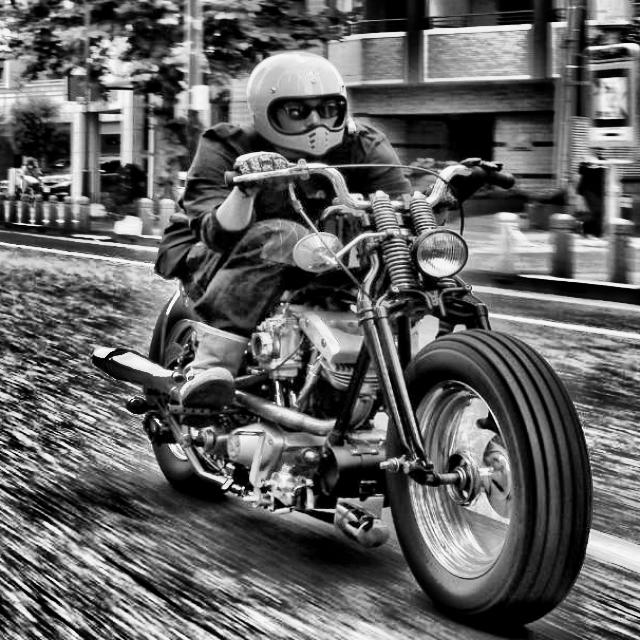Helmet: (244, 49, 356, 160)
